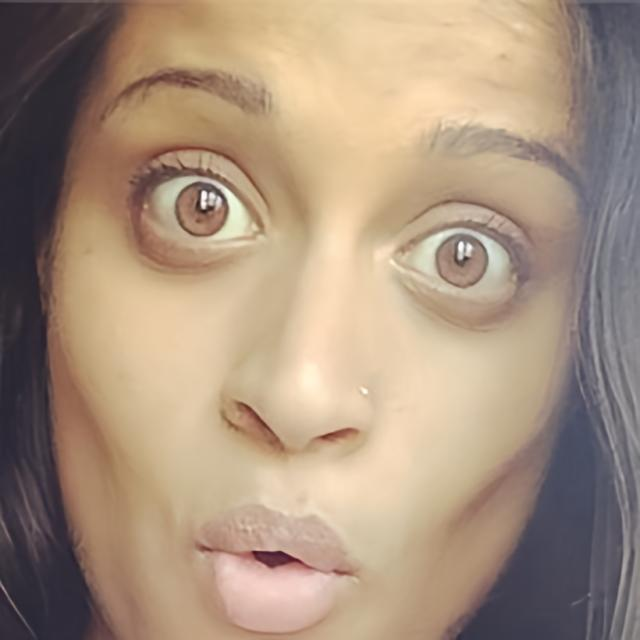surprise: (43, 0, 595, 640)
